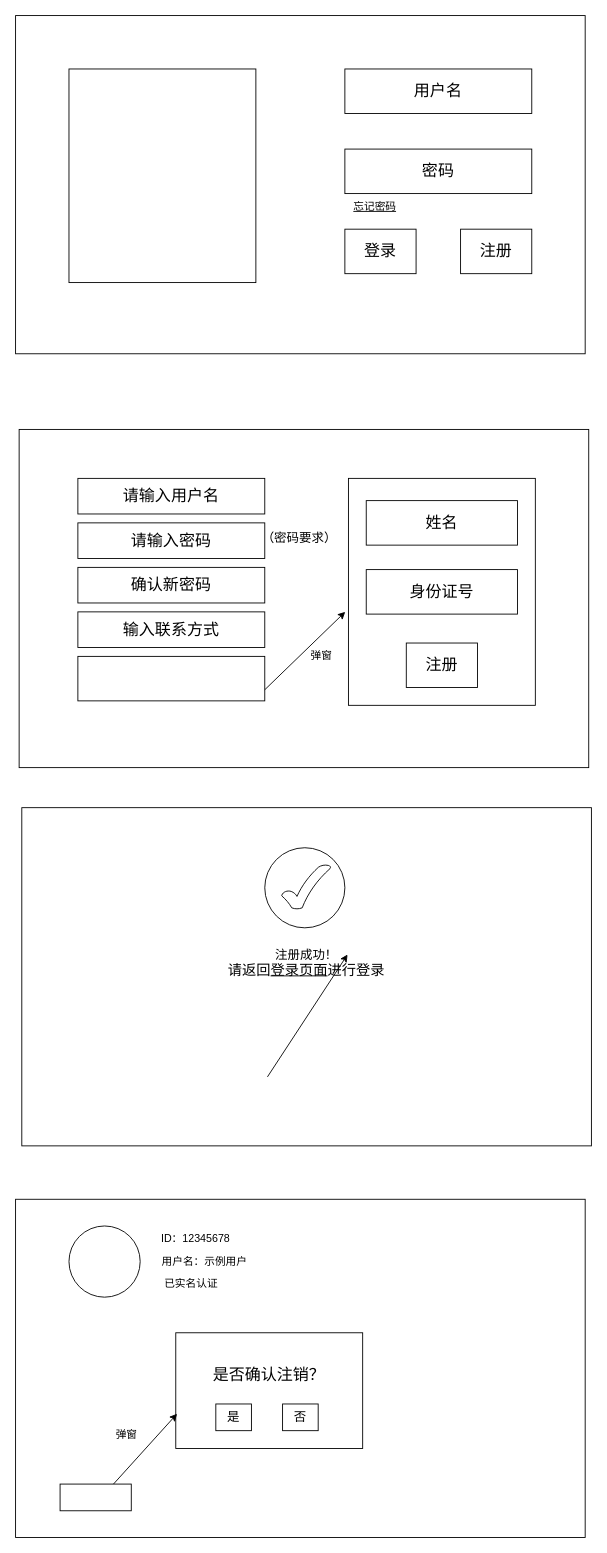
The diagram is 607 pixels wide and 1553 high, and some of its shapes have lost their labels. Each missing label, with the box of its shape:
VIP2: (68, 1225, 140, 1297)
前往实名认证: (77, 655, 265, 701)
广告: (68, 68, 256, 283)
注销: (59, 1483, 131, 1511)
